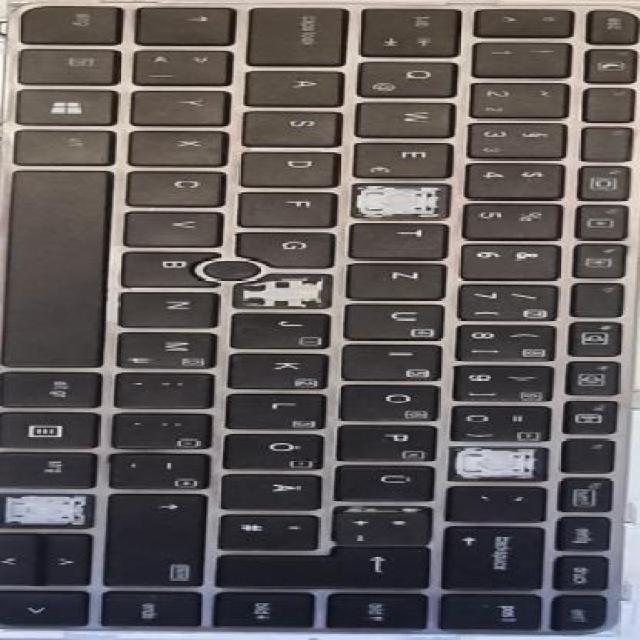Keyboard problems: (235, 274, 329, 308), (354, 185, 448, 217), (0, 494, 92, 526), (449, 448, 546, 478)
